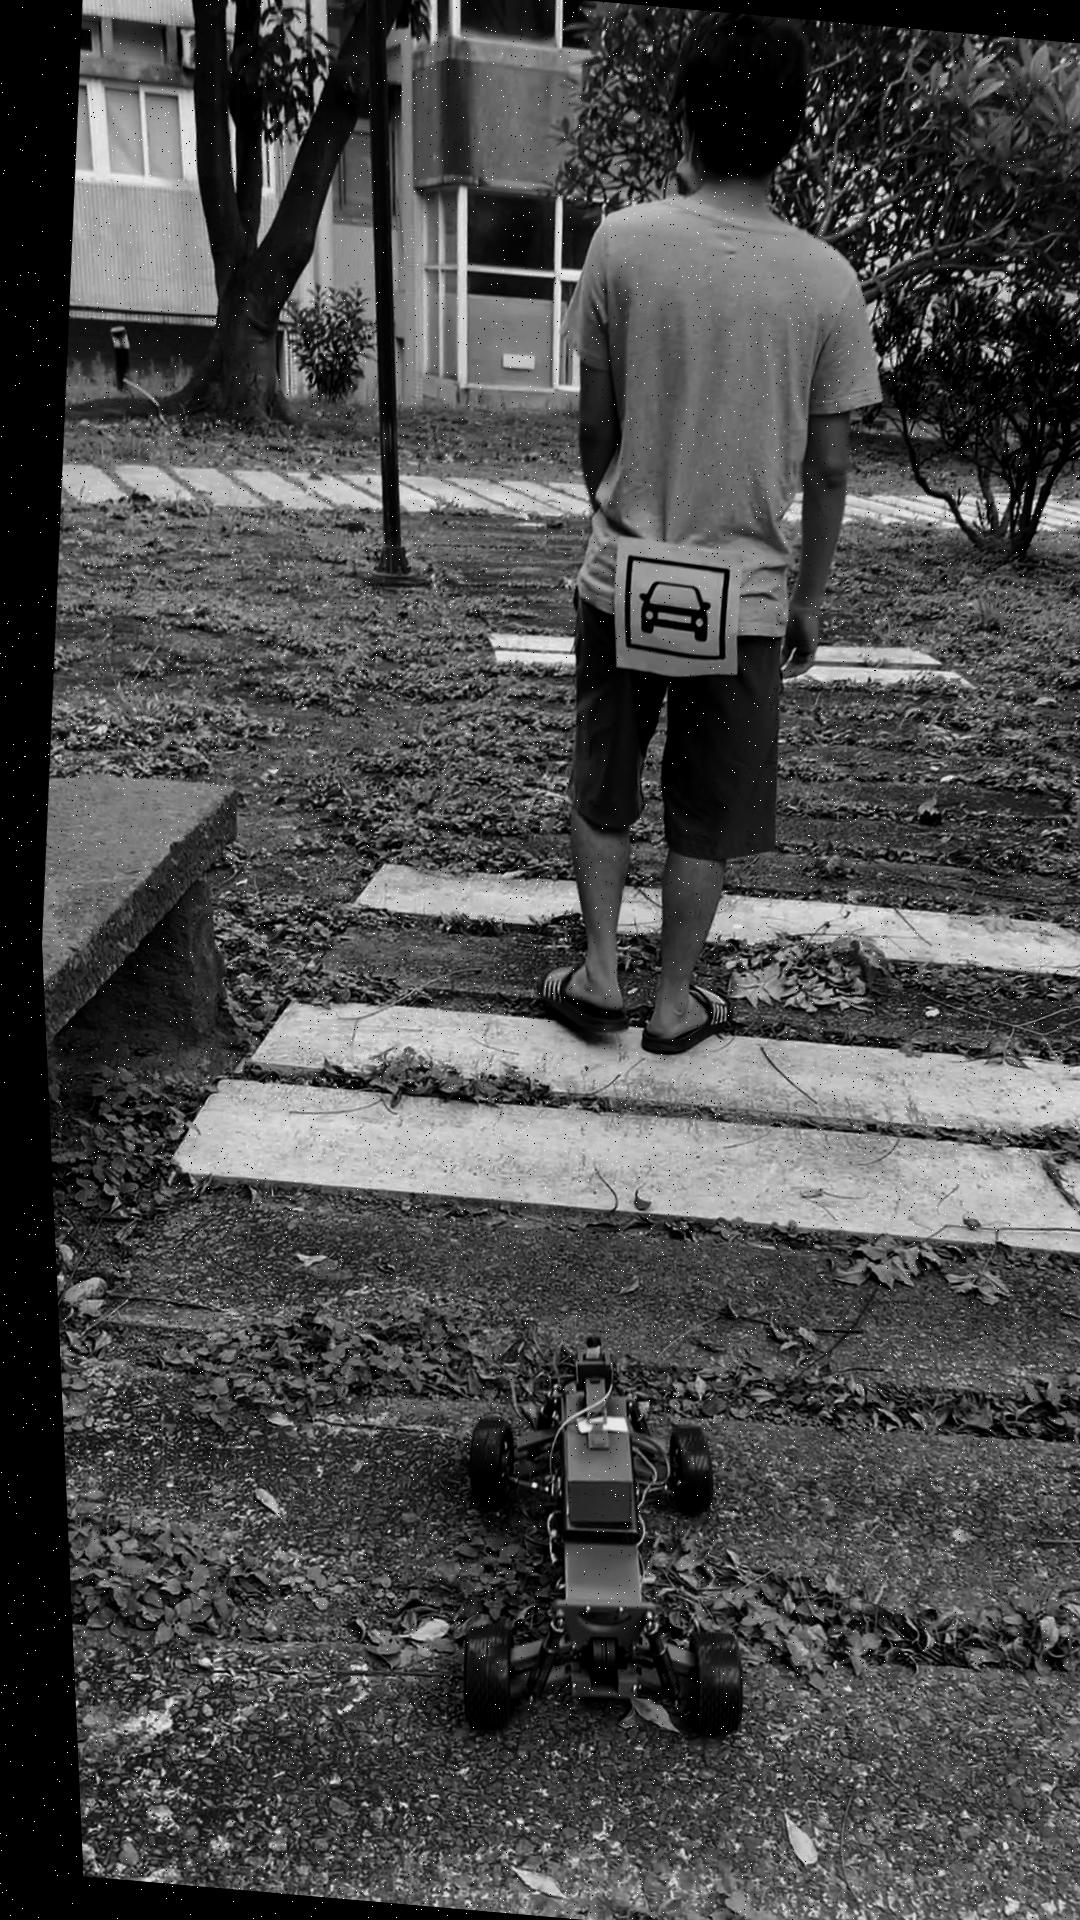car_img: (613, 554, 729, 662)
